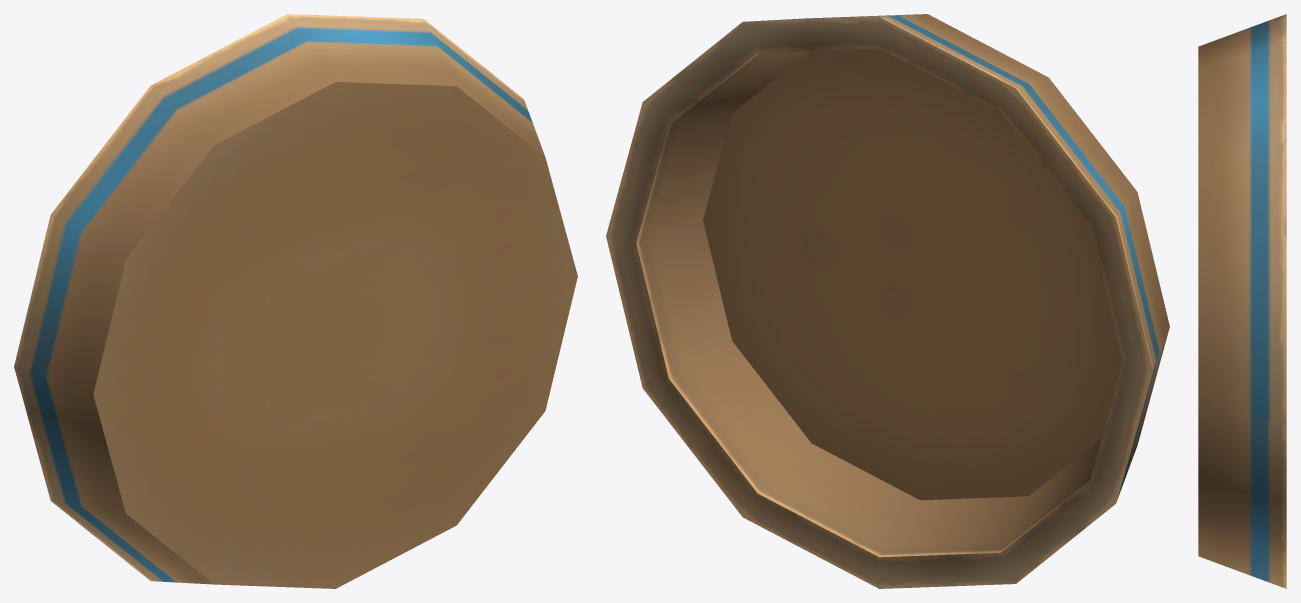
File: Food_plate.fbx
3 renders of one model, left to right at view 1: azimuth 30°, elevation 25°; view 2: azimuth 150°, elevation 25°; view 3: azimuth 270°, elevation 25°, orthographic. The views are drawn at different scales.
Visible parts, largest first — view 1: Food_plate; view 2: Food_plate; view 3: Food_plate.
Part boxes in pixels (x1=…): Food_plate: x1=14, y1=14, x2=577, y2=588; Food_plate: x1=606, y1=14, x2=1169, y2=588; Food_plate: x1=1198, y1=14, x2=1286, y2=588.
Size of the model in its own units: 0.4185 by 0.4185 by 0.064.
